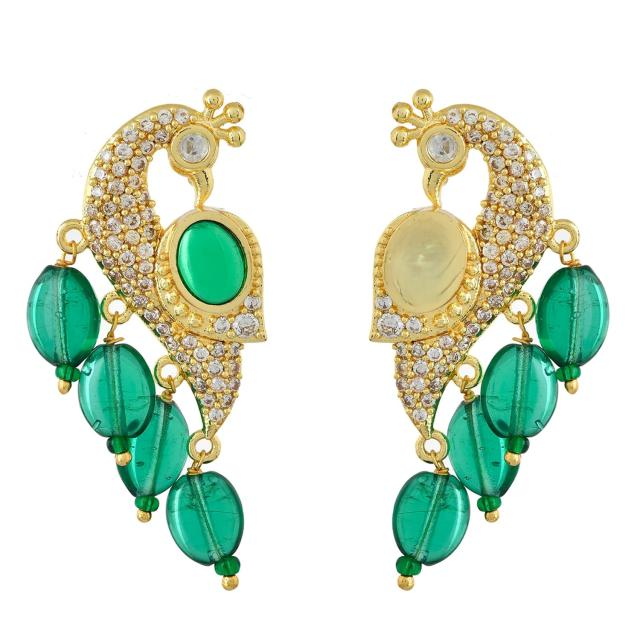missing gem: (382, 210, 467, 312)
